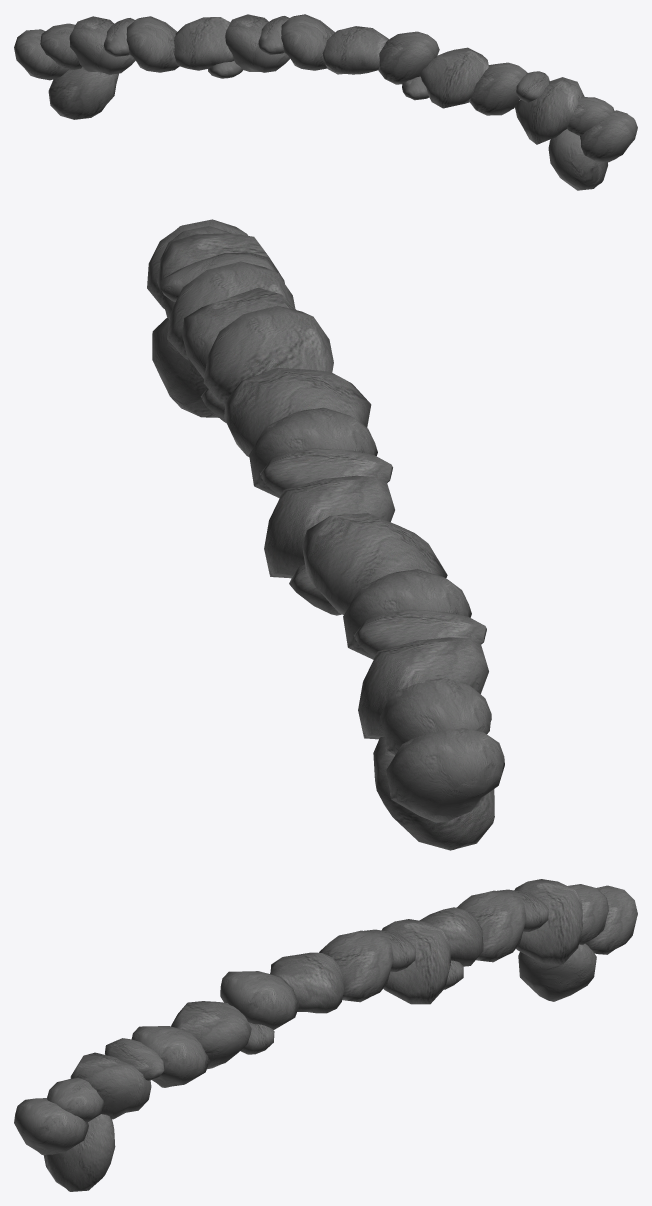
The model's file is StoneBridge2Shape.dae.
The picture shows the model from 3 angles, top to bottom: view 1: azimuth 30°, elevation 25°; view 2: azimuth 150°, elevation 25°; view 3: azimuth 270°, elevation 25°; orthographic projection. The views are drawn at different scales.
Parts seen in each view (by area): view 1: StoneBridge2; view 2: StoneBridge2; view 3: StoneBridge2.
Part boxes in pixels (box(x1,y1,x2,y2)): StoneBridge2: box(14, 14, 637, 190); StoneBridge2: box(147, 219, 504, 850); StoneBridge2: box(14, 879, 637, 1191).
Size of the model in its own units: 58.43 by 17.78 by 65.16.
